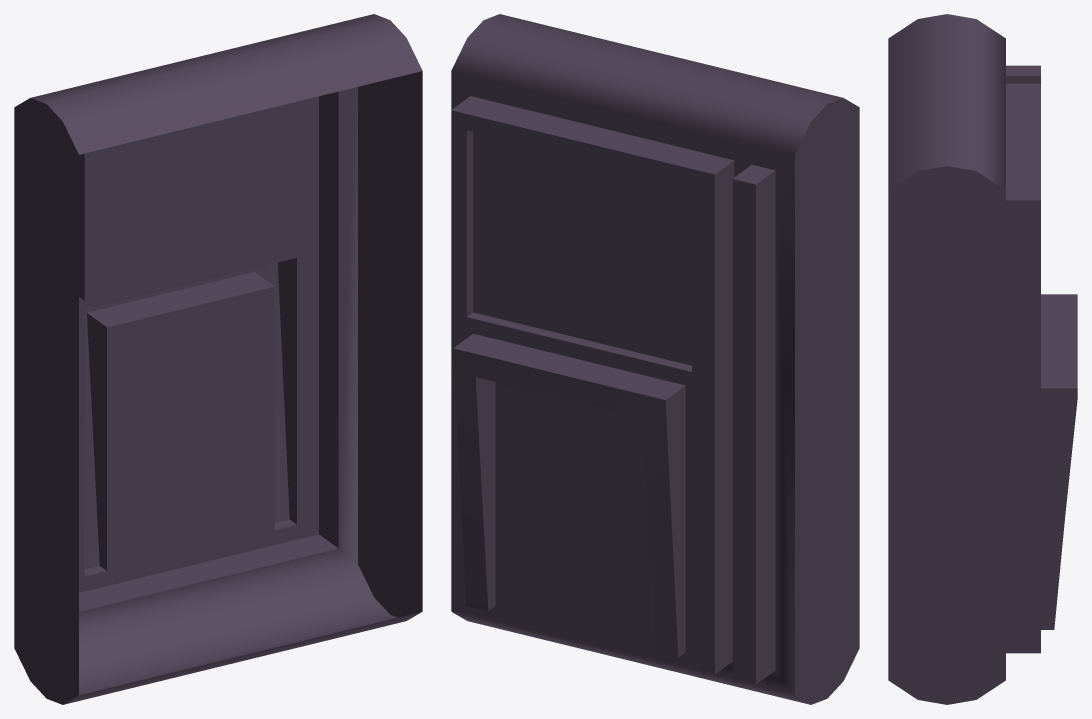
Rendered from Scanner_card 1.fbx.
3 views of the same model, side by side, from view 1: azimuth 30°, elevation 25°; view 2: azimuth 150°, elevation 25°; view 3: azimuth 270°, elevation 25° (orthographic). The views are drawn at different scales.
Parts seen in each view (by area): view 1: Scanner_card; view 2: Scanner_card; view 3: Scanner_card.
Part boxes in pixels (x1,y1,x2,y2): Scanner_card: (14, 14, 422, 704); Scanner_card: (451, 14, 859, 704); Scanner_card: (888, 14, 1077, 704).
Bounding box in the file's own units: 40.68 × 67.24 × 21.38.
